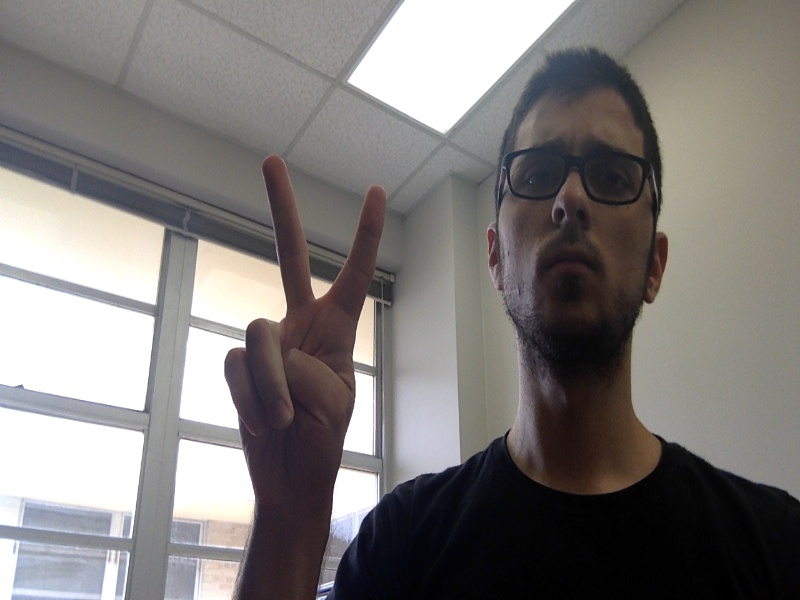2-hand: (227, 156, 388, 482)
